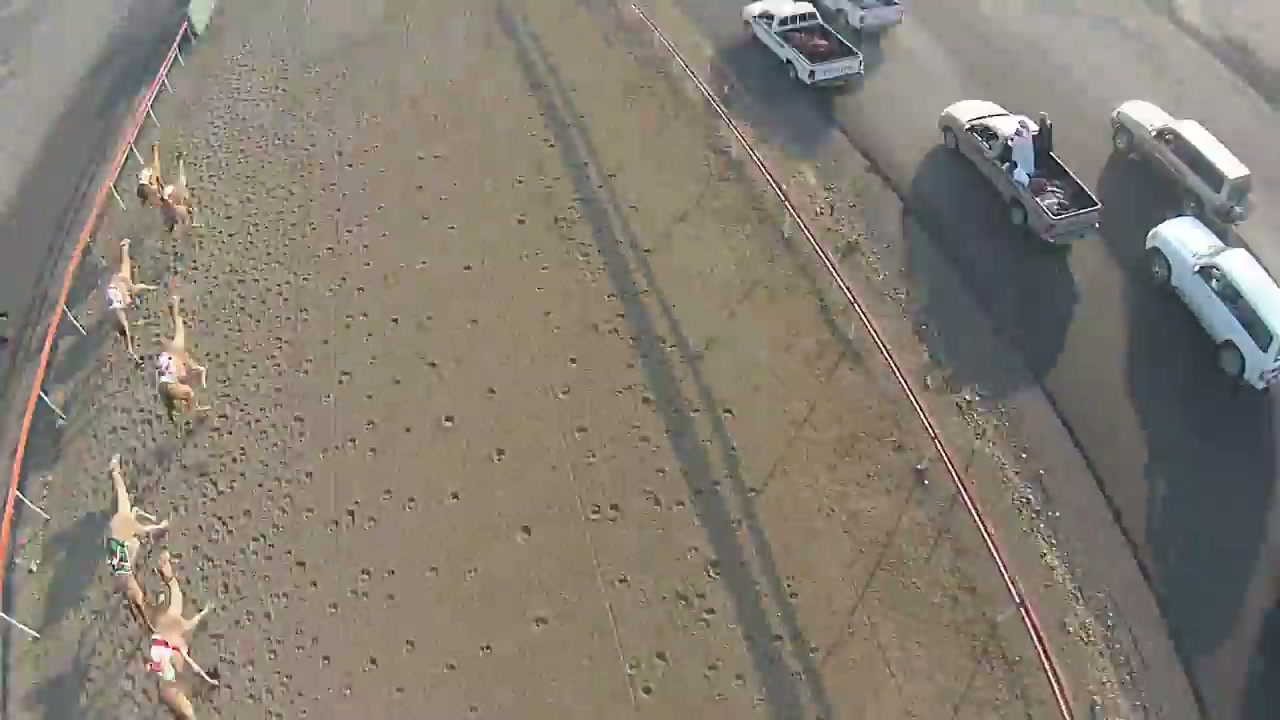animal_footprint: (511, 100, 793, 704), (98, 80, 318, 718), (402, 122, 602, 689), (286, 135, 409, 702)
